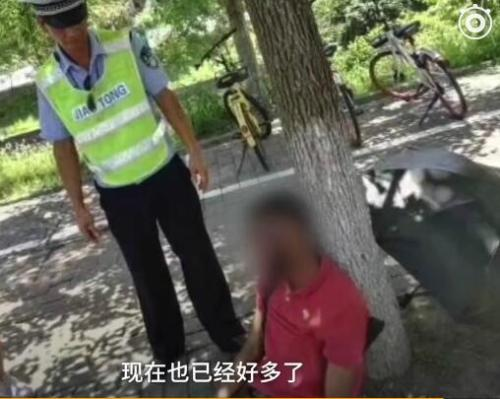fall: (215, 187, 391, 384)
